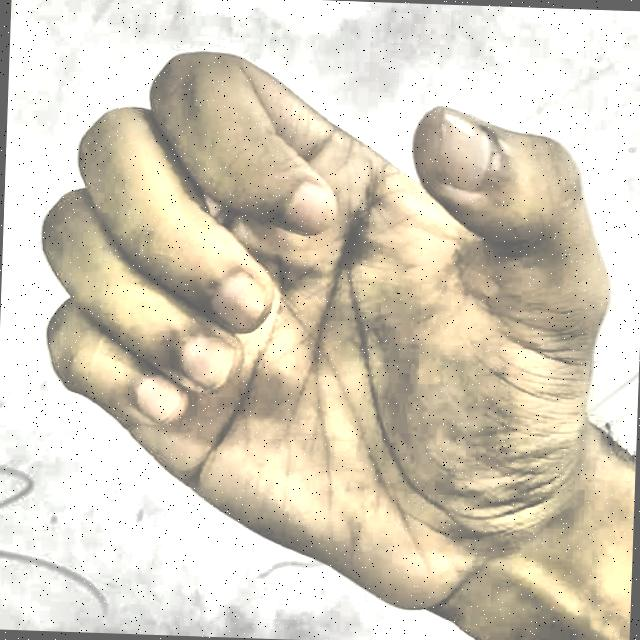Dho: (10, 28, 635, 640)
